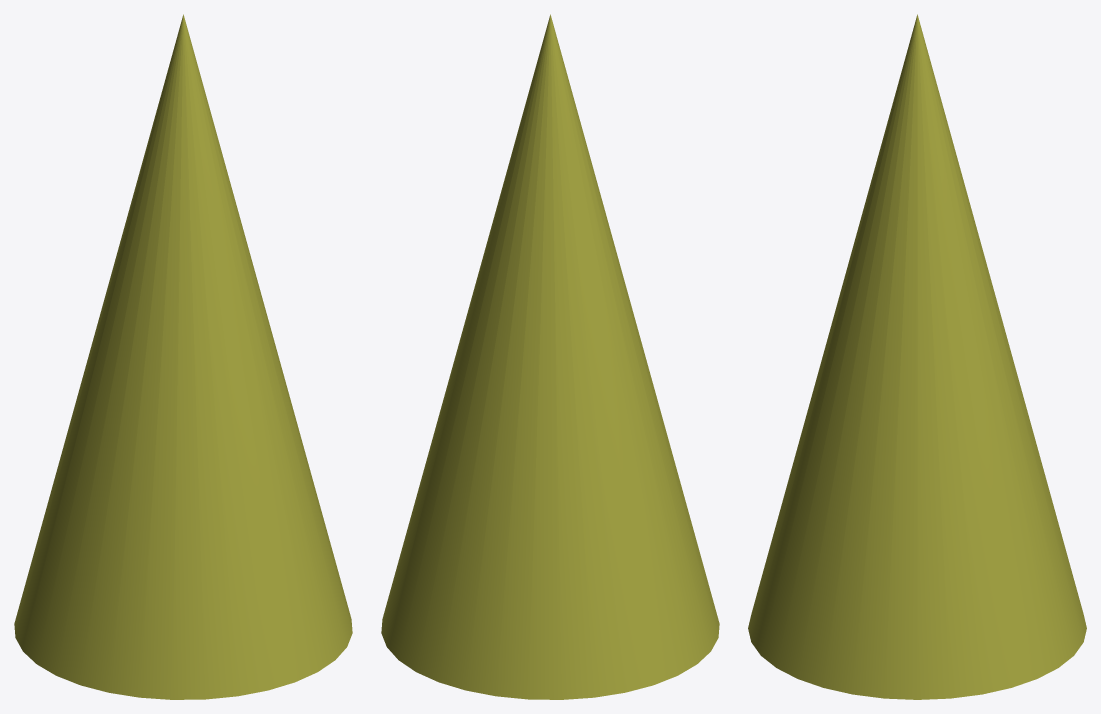
Rendered from sages_arcane.dae.
3 views of the same model, side by side, from view 1: azimuth 30°, elevation 25°; view 2: azimuth 150°, elevation 25°; view 3: azimuth 270°, elevation 25° (orthographic).
Parts seen in each view (by area): view 1: Cone; view 2: Cone; view 3: Cone.
Boxes of the visible parts, x1=… form: Cone: x1=14, y1=14, x2=352, y2=699; Cone: x1=381, y1=14, x2=719, y2=699; Cone: x1=748, y1=14, x2=1086, y2=699.
Bounding box in the file's own units: 1 × 2 × 1.
